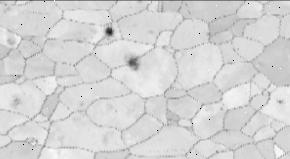good_void: (5, 90, 33, 113), (121, 51, 143, 70), (23, 132, 41, 146), (271, 93, 286, 108), (102, 24, 118, 37), (4, 34, 19, 47), (145, 27, 160, 37), (77, 99, 88, 111), (211, 147, 222, 156), (216, 104, 225, 112), (234, 46, 242, 52)
